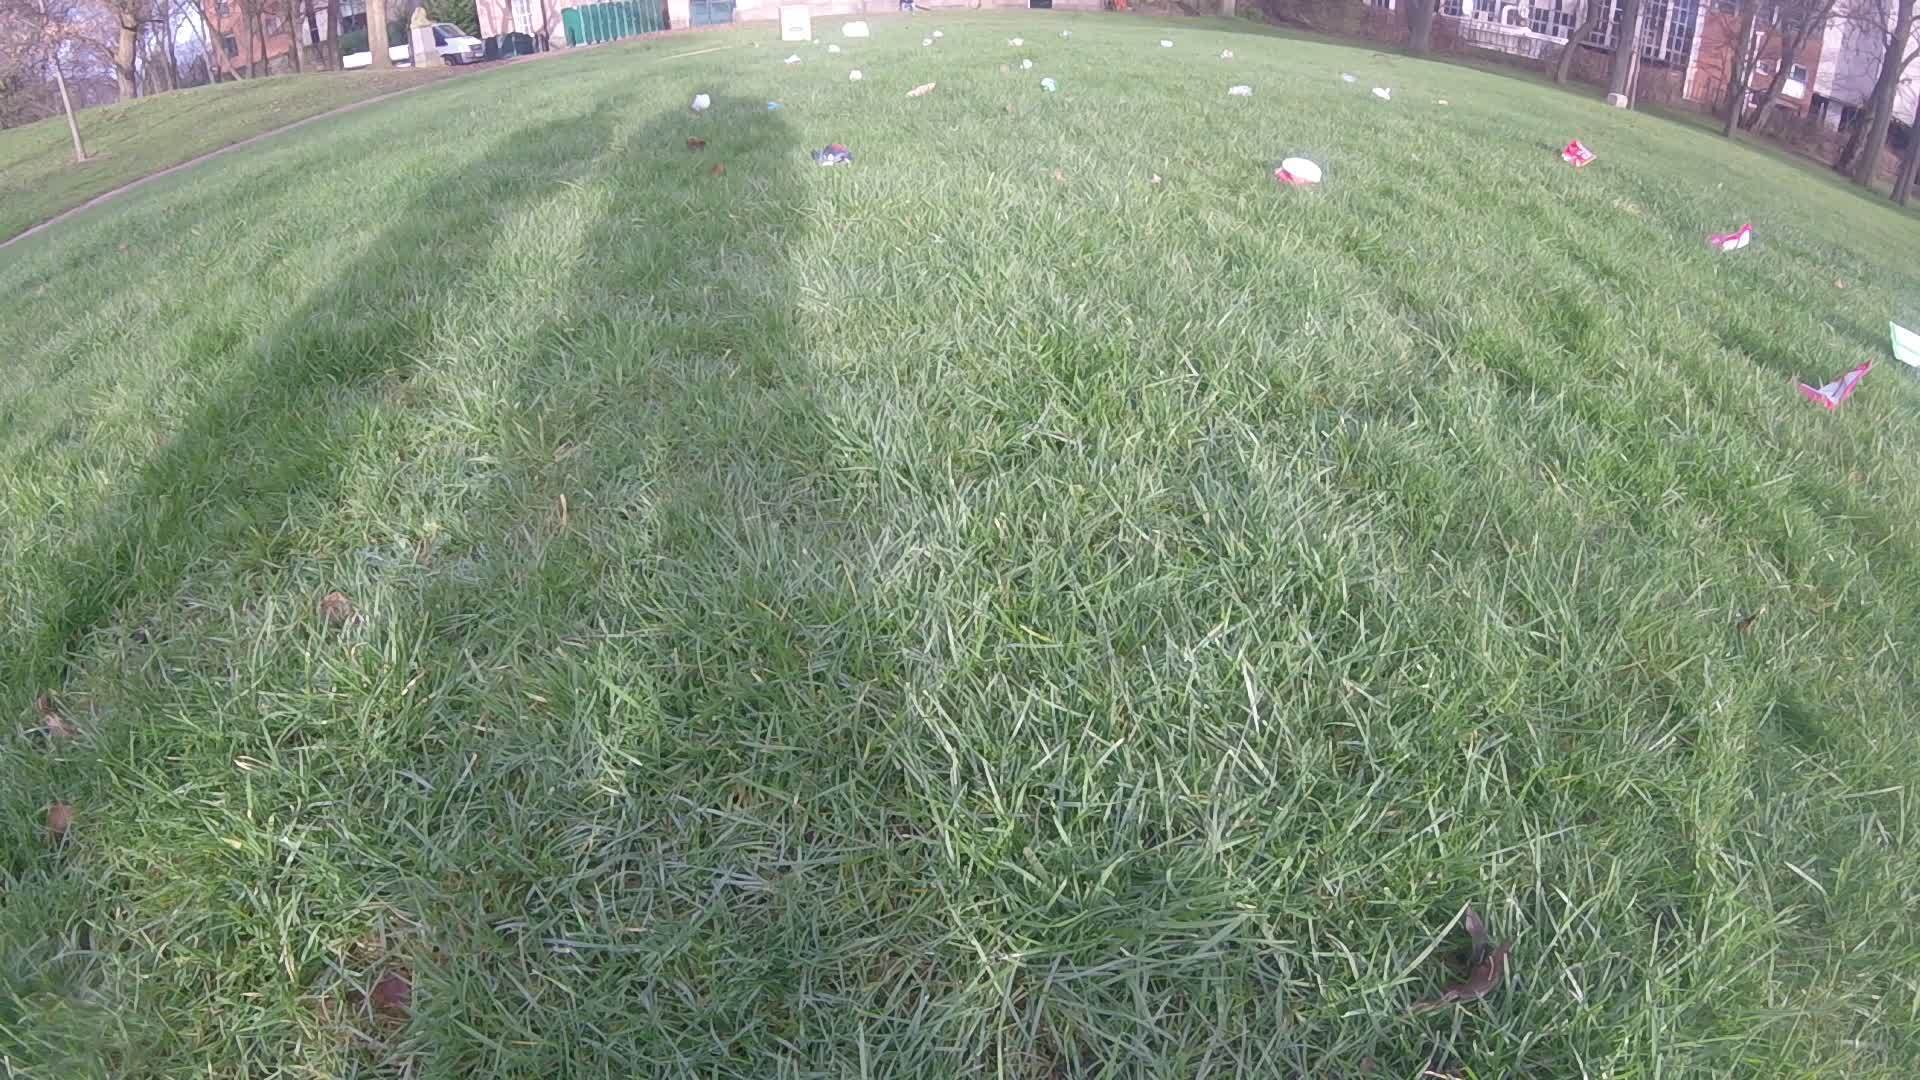litter: (1800, 360, 1875, 414), (1888, 323, 1920, 371), (1276, 160, 1323, 186), (779, 5, 812, 41), (1712, 224, 1753, 252), (1559, 138, 1596, 169), (812, 141, 855, 167), (843, 21, 873, 40), (906, 84, 938, 99), (688, 94, 709, 112), (1370, 84, 1391, 102), (1230, 86, 1255, 95), (1043, 79, 1059, 94), (1222, 47, 1240, 59), (1153, 40, 1176, 47), (1338, 73, 1354, 83), (848, 69, 861, 80), (789, 54, 800, 67), (923, 37, 935, 49), (825, 46, 843, 54), (1011, 38, 1023, 46), (1023, 59, 1033, 69), (934, 28, 942, 37)
